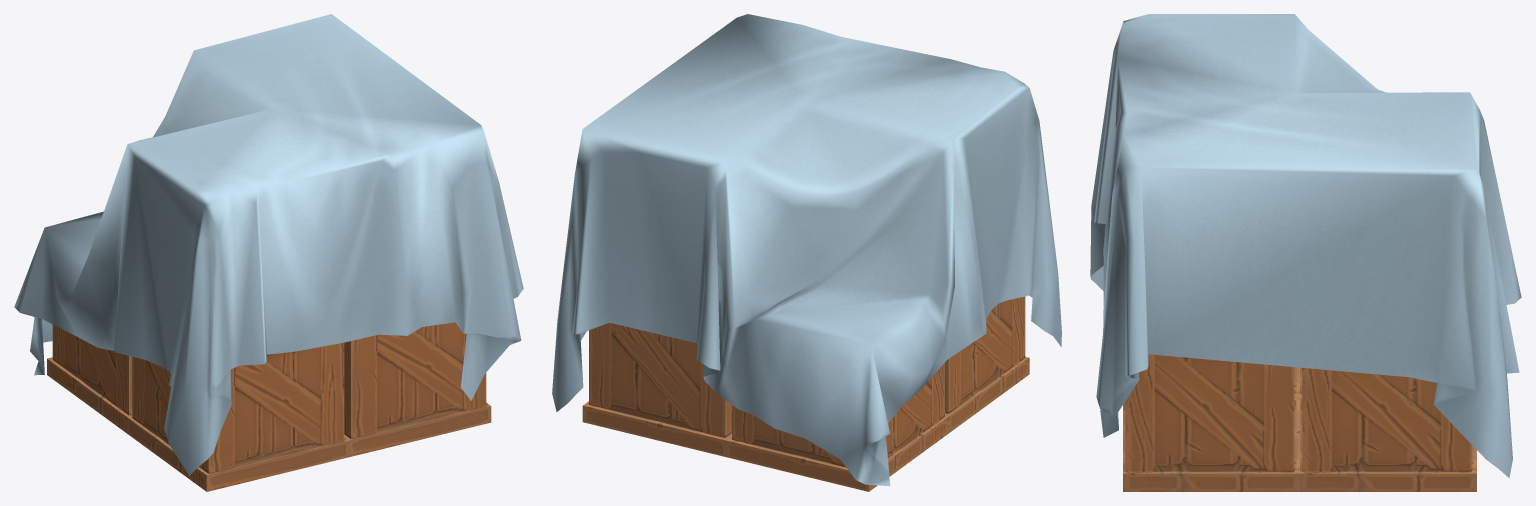
File: Pfb_Box_GRP__2.fbx
The picture shows the model from 3 angles, left to right: view 1: azimuth 30°, elevation 25°; view 2: azimuth 150°, elevation 25°; view 3: azimuth 270°, elevation 25°; orthographic projection. The views are drawn at different scales.
Parts seen in each view (by area): view 1: MAT_Canvas_01_Blue_Smooth 1, Mat_WoodBox_01_1; view 2: MAT_Canvas_01_Blue_Smooth 1, Mat_WoodBox_01_1; view 3: MAT_Canvas_01_Blue_Smooth 1, Mat_WoodBox_01_1.
Part boxes in pixels (x1,y1,x2,y2): MAT_Canvas_01_Blue_Smooth 1: (14, 14, 523, 475); Mat_WoodBox_01_1: (47, 322, 491, 491); MAT_Canvas_01_Blue_Smooth 1: (552, 14, 1061, 486); Mat_WoodBox_01_1: (582, 296, 1029, 491); MAT_Canvas_01_Blue_Smooth 1: (1090, 14, 1521, 477); Mat_WoodBox_01_1: (1123, 354, 1476, 491).
Size of the model in its own units: 1.93 by 1.55 by 1.85.
2 materials, 2 textured.
